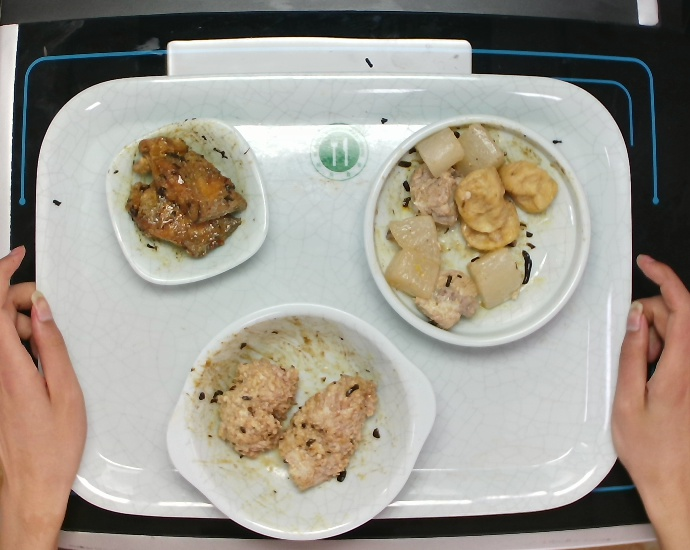JYsf-Shuang_Er_Wan: (162, 303, 439, 543)
JYsf-Si_Fang_Die: (101, 113, 273, 291)
JYsf-Xiao_Yuan_Pan: (363, 111, 591, 351)
